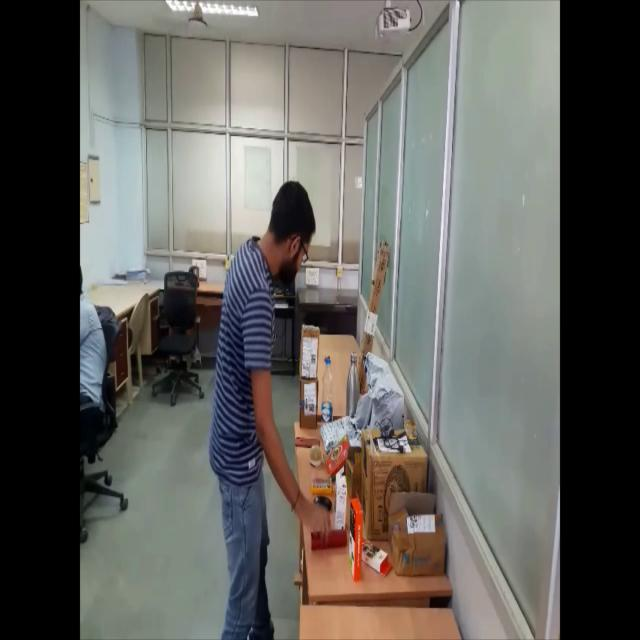normal: (199, 147, 332, 640)
